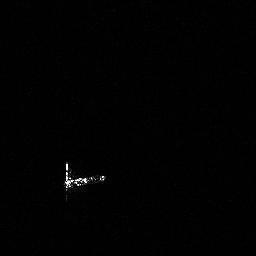ship: (56, 160, 120, 192)
